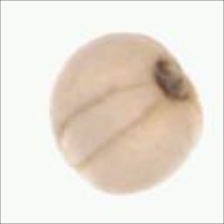L5: (62, 80, 165, 165), (151, 52, 194, 102)
L6: (48, 30, 208, 196)
